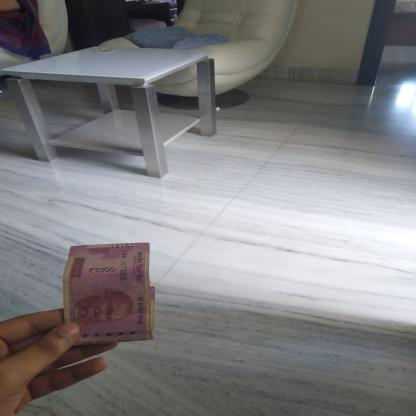New2000Front: (65, 247, 150, 344)
